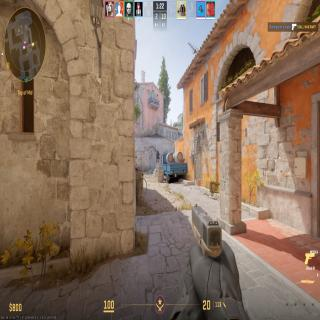CT-Body: (156, 150, 160, 163)
CT-Head: (157, 150, 159, 153)
